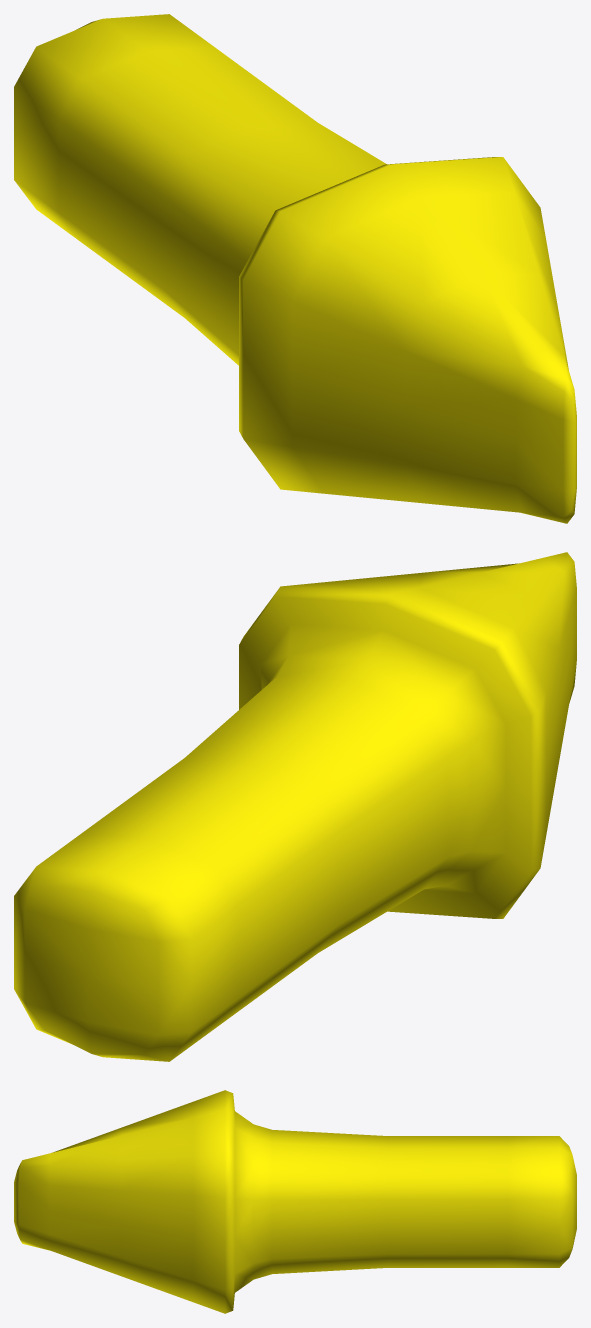
The model's file is arrow.obj.
3 views of the same model, one above another, from view 1: azimuth 30°, elevation 25°; view 2: azimuth 150°, elevation 25°; view 3: azimuth 270°, elevation 25° (orthographic). The views are drawn at different scales.
Parts seen in each view (by area): view 1: arrow_Cube; view 2: arrow_Cube; view 3: arrow_Cube.
Part boxes in pixels (x1,y1,x2,y2): arrow_Cube: [14, 14, 576, 523]; arrow_Cube: [14, 552, 576, 1061]; arrow_Cube: [14, 1090, 576, 1313].
Size of the model in its own units: 1.67 by 1.71 by 4.74.
